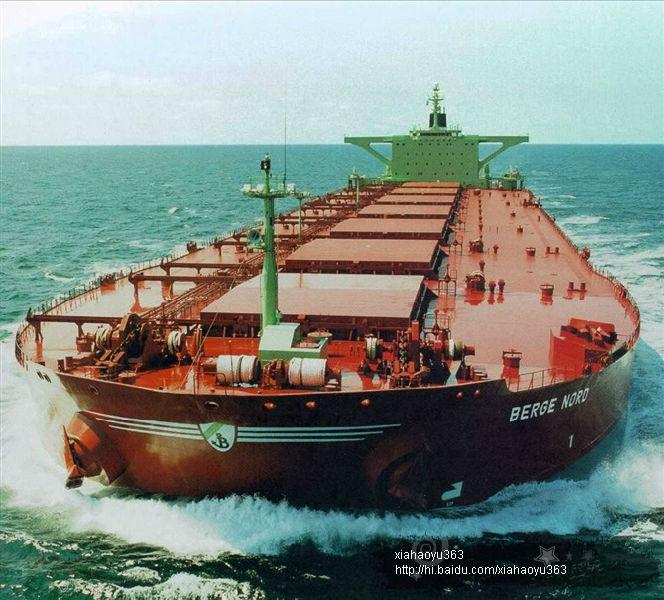Cargoship: (10, 78, 641, 512)
